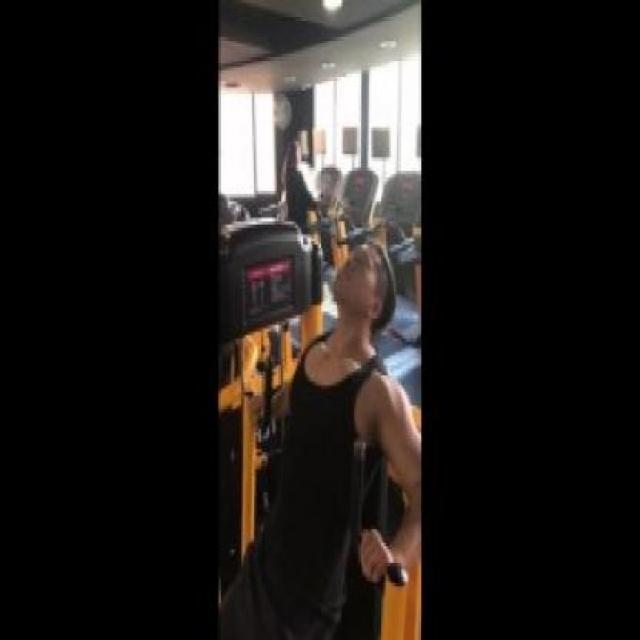Chest Press machine: (186, 183, 492, 640)
